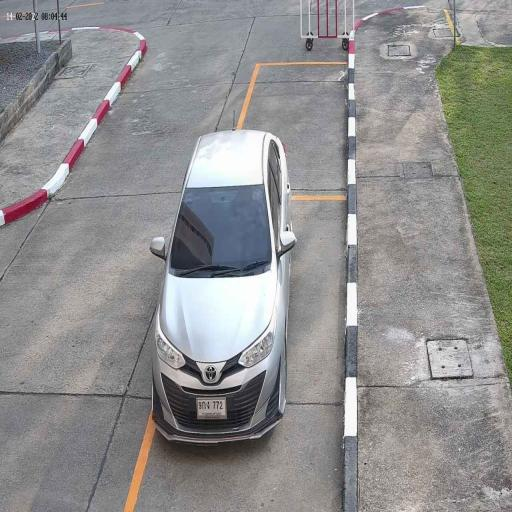car: (148, 127, 298, 448)
